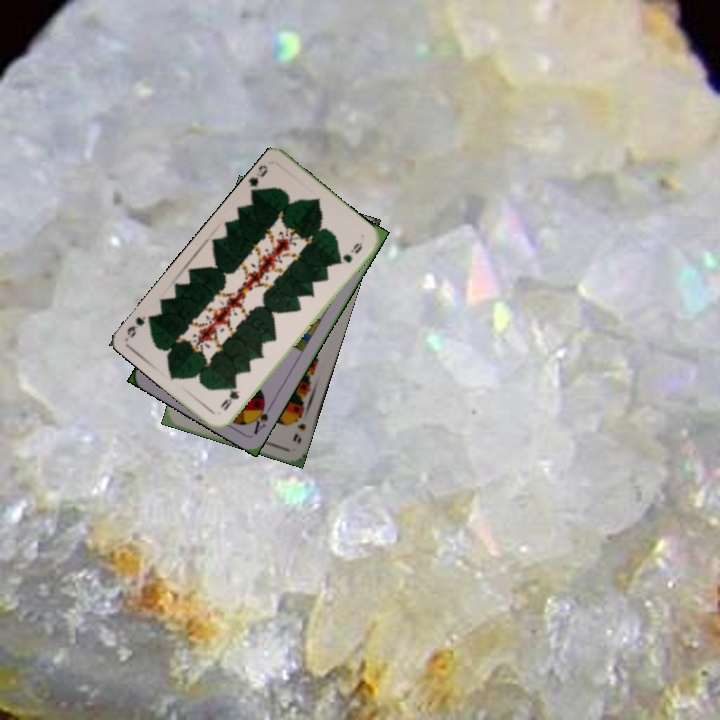G9: (245, 160, 270, 196), (216, 382, 242, 414)
S9: (289, 409, 308, 446)
SA: (247, 397, 275, 437)
